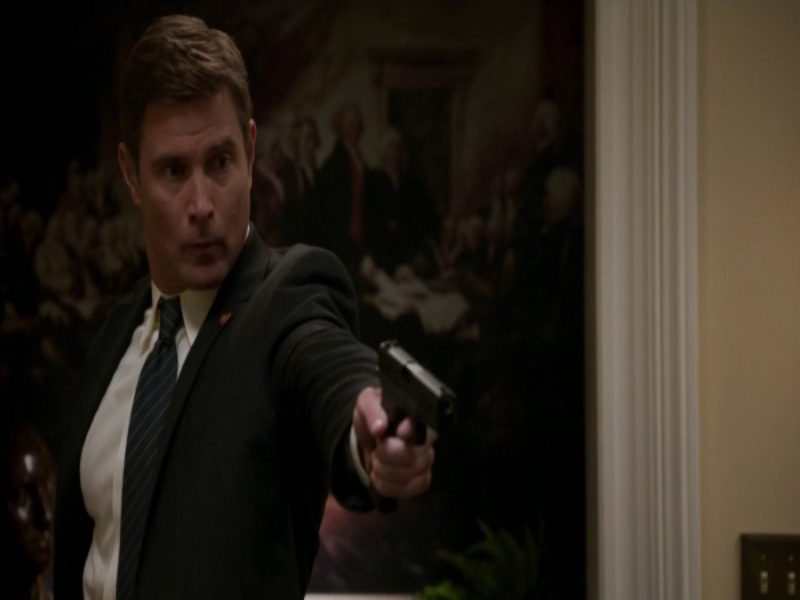person: (49, 18, 443, 595)
weapon: (367, 333, 450, 499)
